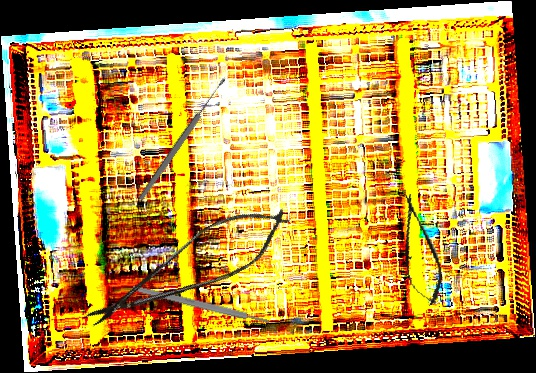Micro Scissor: (75, 189, 303, 348), (390, 190, 449, 310)
Scalpel Handle: (132, 284, 270, 326)
Surgical Spoon: (136, 75, 229, 203)
